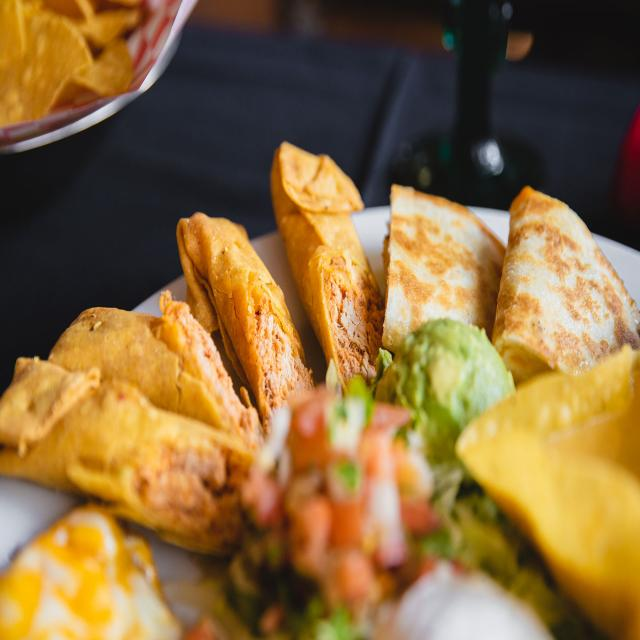Spring Rolls: (0, 132, 374, 540)
